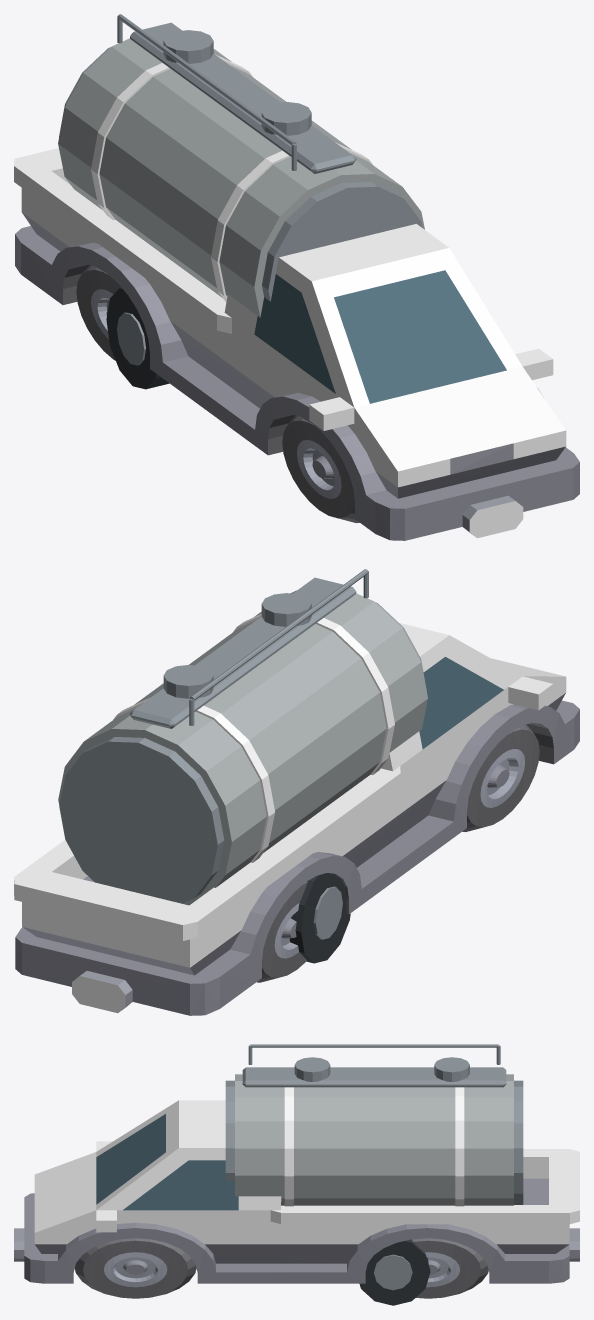
File: tanker.glb
3 views of the same model, one above another, from view 1: azimuth 30°, elevation 25°; view 2: azimuth 150°, elevation 25°; view 3: azimuth 270°, elevation 25° (orthographic). The views are drawn at different scales.
Parts seen in each view (by area): view 1: trim, body, head; view 2: trim, body, tail; view 3: trim, body, head.
Boxes of the visible parts, x1,y1,x2,y2 form: trim: [15, 14, 579, 540]; body: [14, 54, 565, 538]; head: [383, 430, 566, 487]; trim: [15, 569, 579, 1015]; body: [14, 614, 565, 1013]; tail: [22, 902, 204, 951]; trim: [14, 1044, 579, 1305]; body: [34, 1087, 579, 1244]; head: [34, 1225, 55, 1244].
Size of the model in its own units: 2.43 by 3.07 by 7.3.
